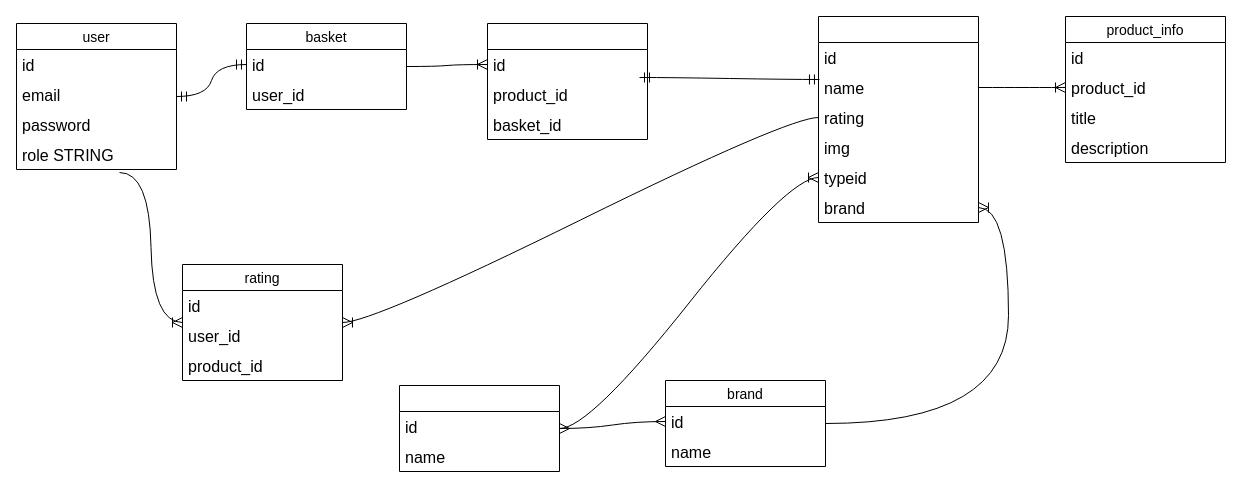
Image size: 1242x488. Some labels were removed from this diagram. Here are the shapes that lost their labels. From the top down, the box of each, then its label:
(486, 22, 648, 140): basket_product
(818, 16, 978, 222): product
(398, 384, 560, 472): type
